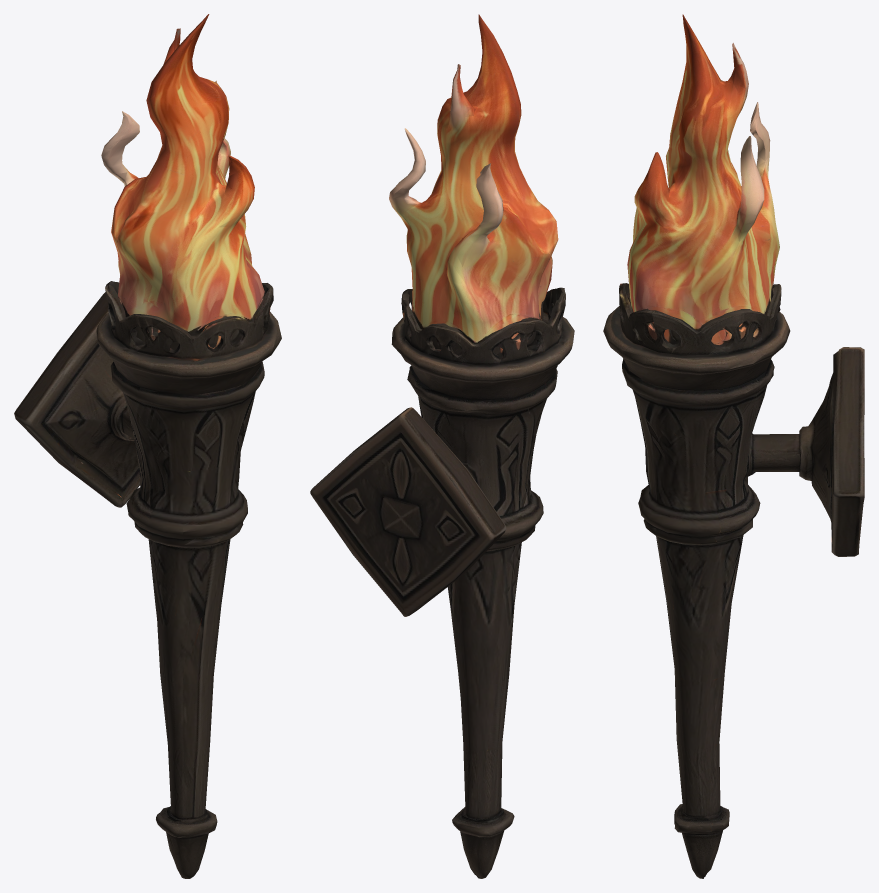
File: obj_torchlight.glb
The picture shows the model from 3 angles, left to right: view 1: azimuth 30°, elevation 25°; view 2: azimuth 150°, elevation 25°; view 3: azimuth 270°, elevation 25°; orthographic projection.
Size of the model in its own units: 0.2163 by 0.9517 by 0.2593.
Materials: 1 (1 with a texture image).
